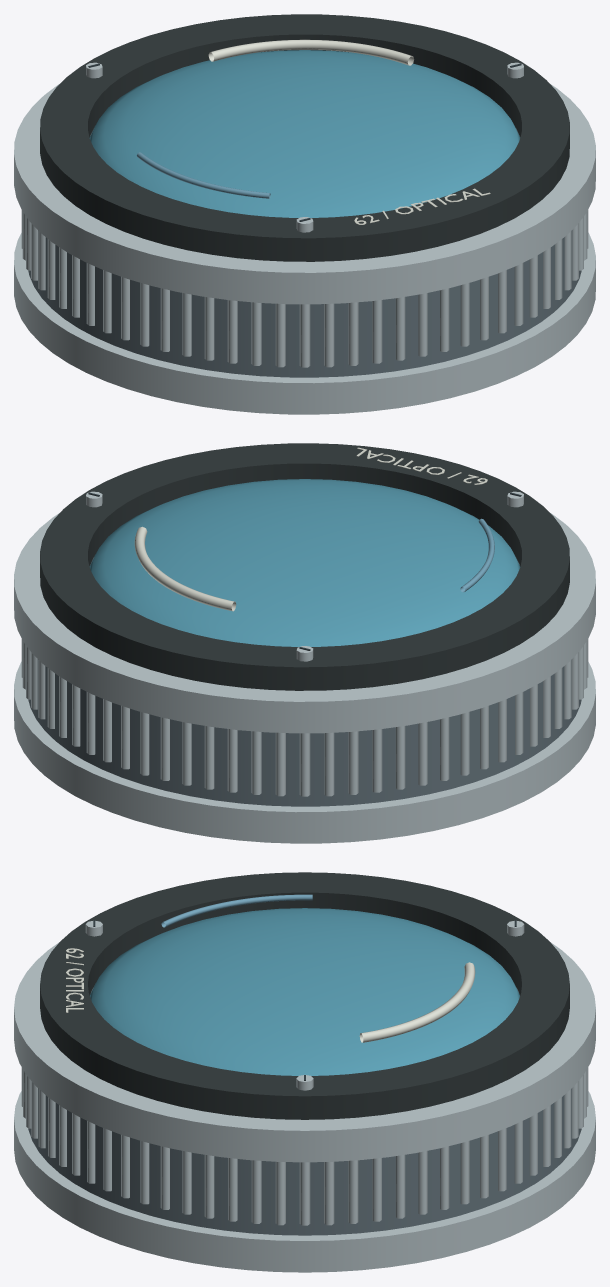
Rendered from loot_lens.glb.
3 views of the same model, one above another, from view 1: azimuth 30°, elevation 25°; view 2: azimuth 150°, elevation 25°; view 3: azimuth 270°, elevation 25° (orthographic).
Visible parts, largest first — view 1: loot_lens; view 2: loot_lens; view 3: loot_lens.
Part boxes in pixels (x1,y1,x2,y2): loot_lens: (14, 14, 595, 414); loot_lens: (14, 443, 595, 843); loot_lens: (14, 872, 595, 1272).
Size of the model in its own units: 0.134 by 0.0462 by 0.134.
